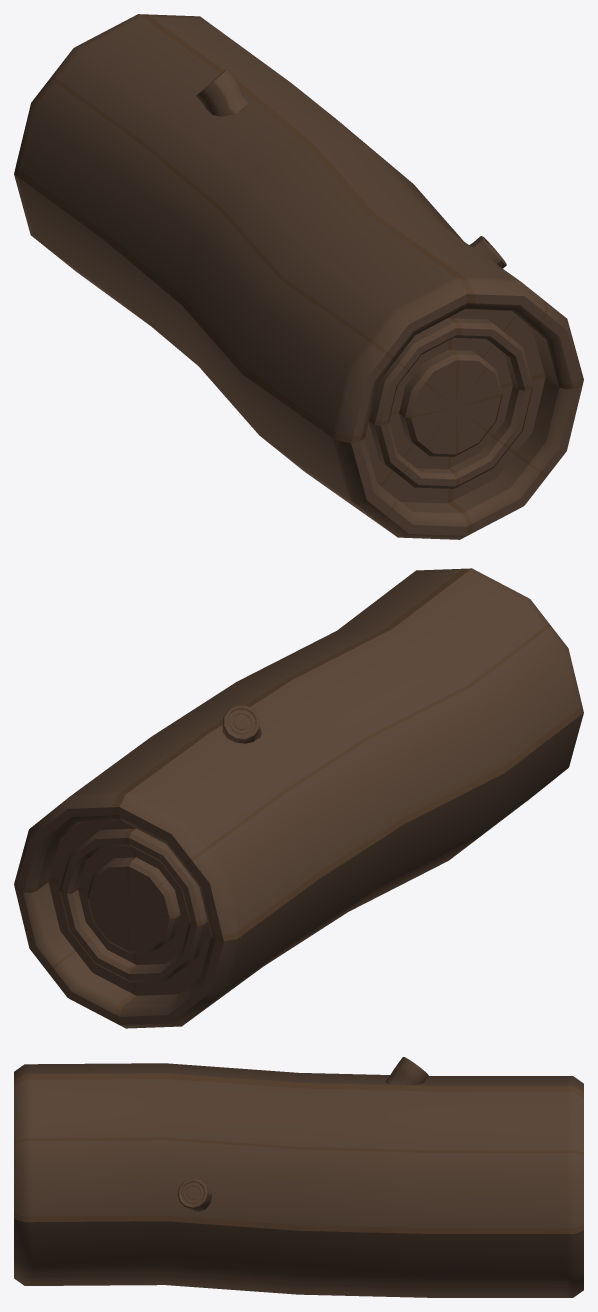
Rendered from Log (3).fbx.
3 views of the same model, one above another, from view 1: azimuth 30°, elevation 25°; view 2: azimuth 150°, elevation 25°; view 3: azimuth 270°, elevation 25° (orthographic). The views are drawn at different scales.
Parts seen in each view (by area): view 1: Right with color.001; view 2: Right with color.001; view 3: Right with color.001.
Part boxes in pixels (box(x1,y1,x2,y2)): Right with color.001: box(14, 14, 583, 539); Right with color.001: box(14, 568, 583, 1028); Right with color.001: box(14, 1057, 583, 1297).
Size of the model in its own units: 227 by 220 by 512.
